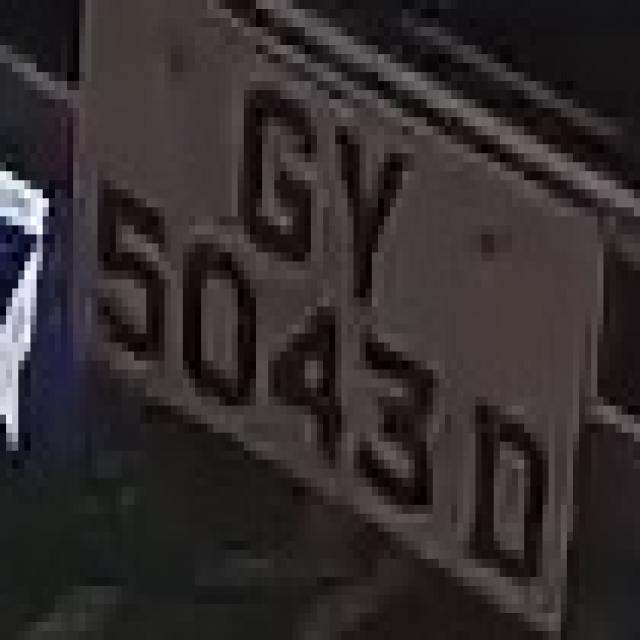0: (158, 189, 274, 442)
3: (347, 315, 439, 532)
4: (256, 252, 347, 496)
5: (85, 135, 171, 397)
D: (445, 370, 555, 622)
G: (232, 63, 317, 280)
Y: (323, 90, 402, 334)
